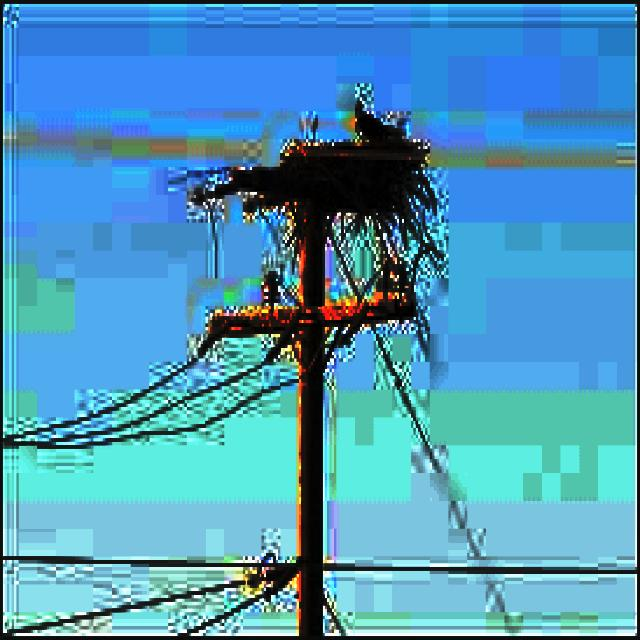obstruction: (215, 132, 418, 209)
poles: (201, 205, 409, 637)
wires: (308, 219, 635, 574), (0, 271, 301, 449), (2, 525, 297, 633)
